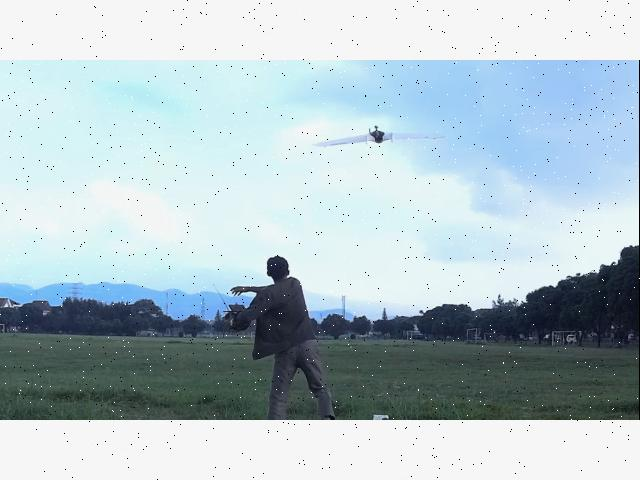Anti-Drone: (314, 125, 444, 152)
